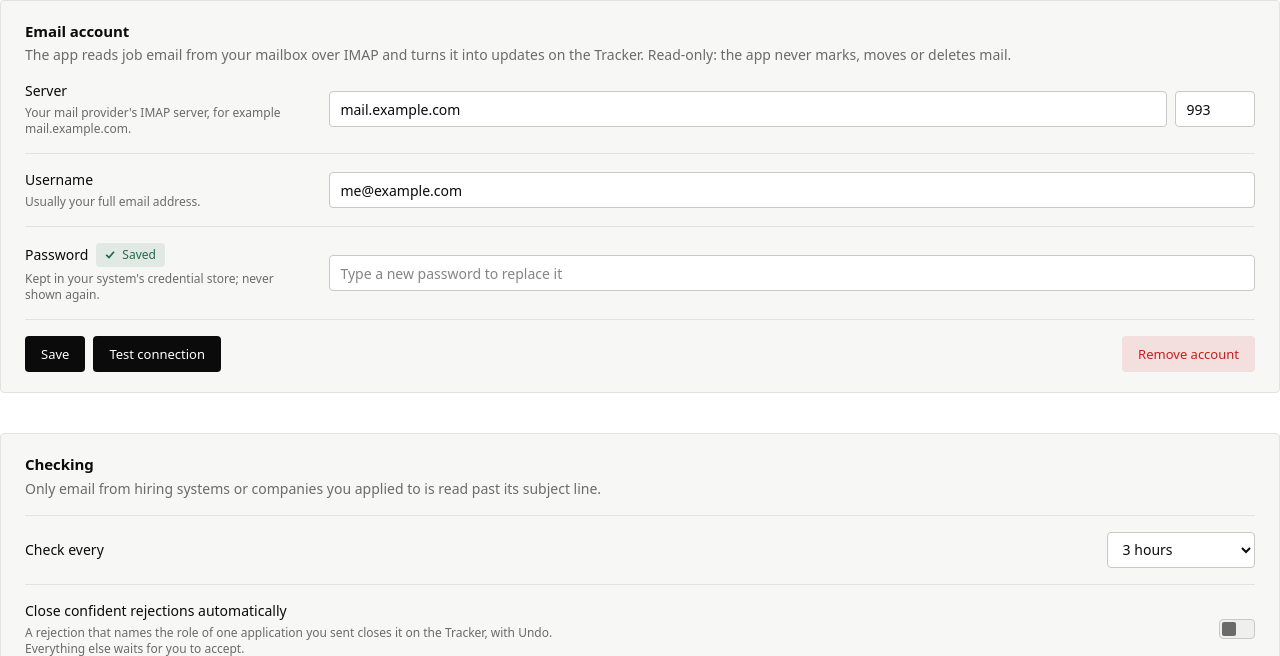
EmailSection › shows a test's result, and a refused login in plain words
The width and height of the screenshot is (1280, 656).
Click the button "Test connection".
click(157, 354)  # box [93,336,221,372]
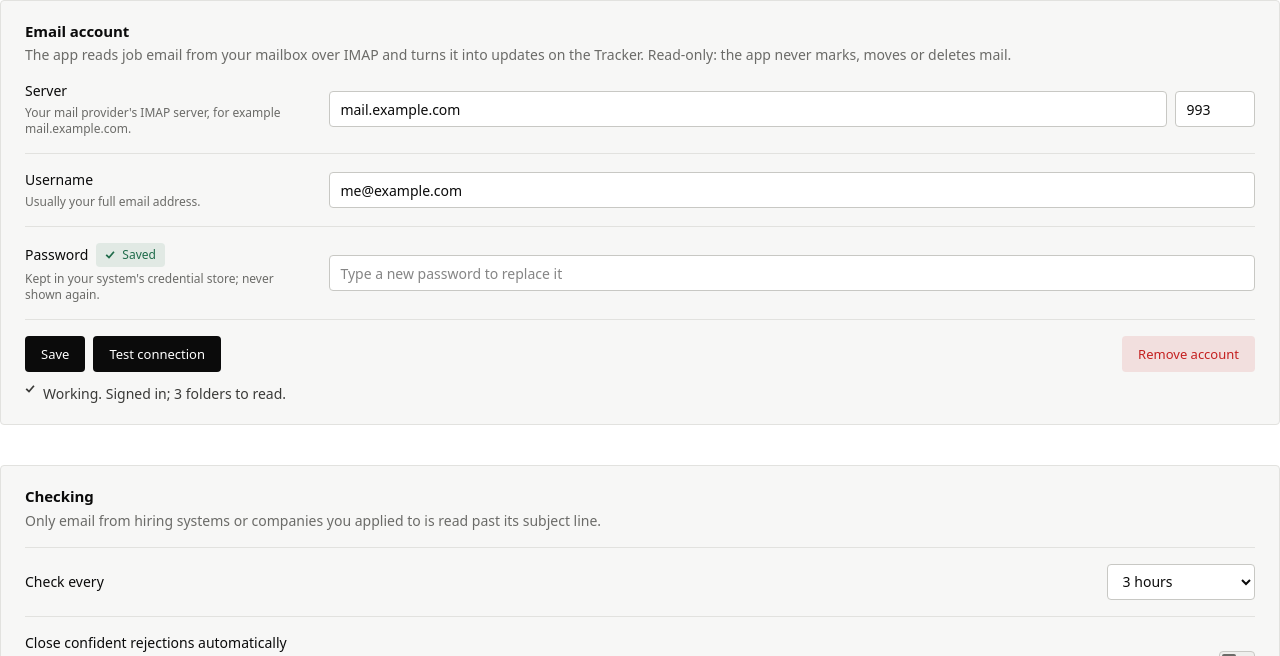
Check: the message shows "3 folders", box [106,384,286,403]
Click the button "Test connection".
click(157, 354)  # box [93,336,221,372]
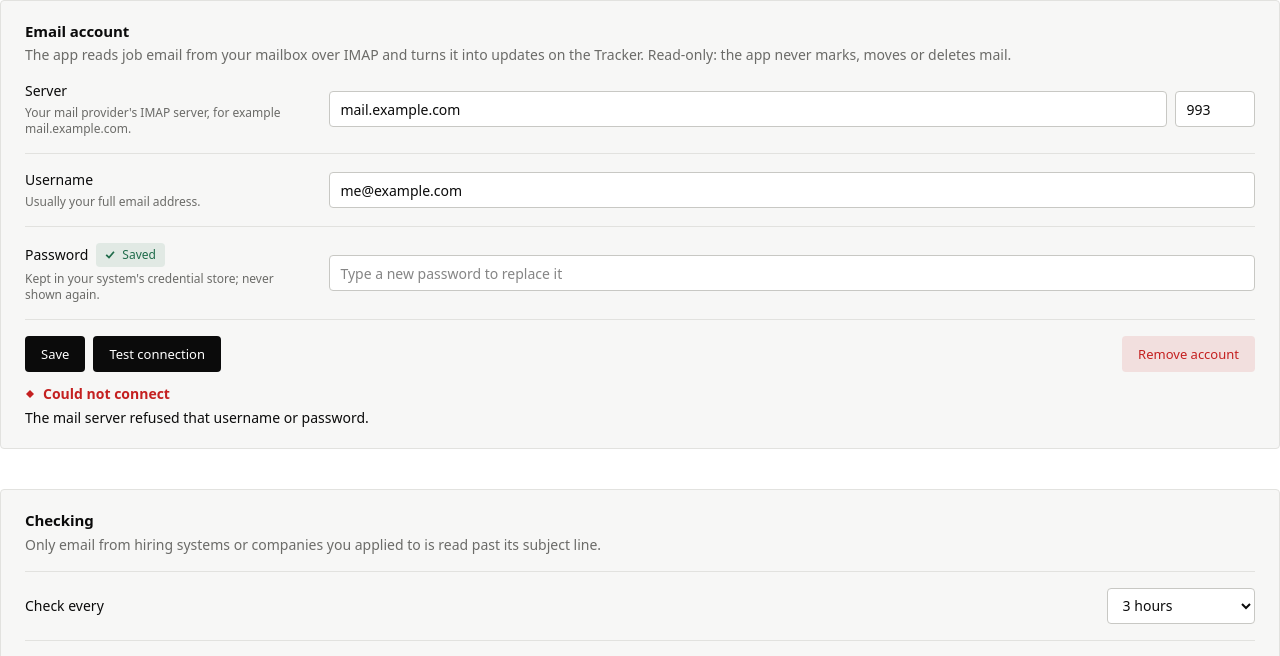
Check: the message shows "Could not connect", box [43,384,170,403]
Check: the message shows "refused that username or password", box [25,408,369,427]
